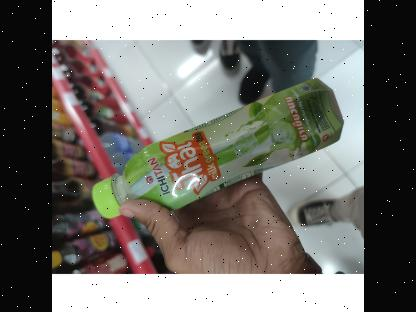Plastic Bottle: (86, 62, 354, 241)
